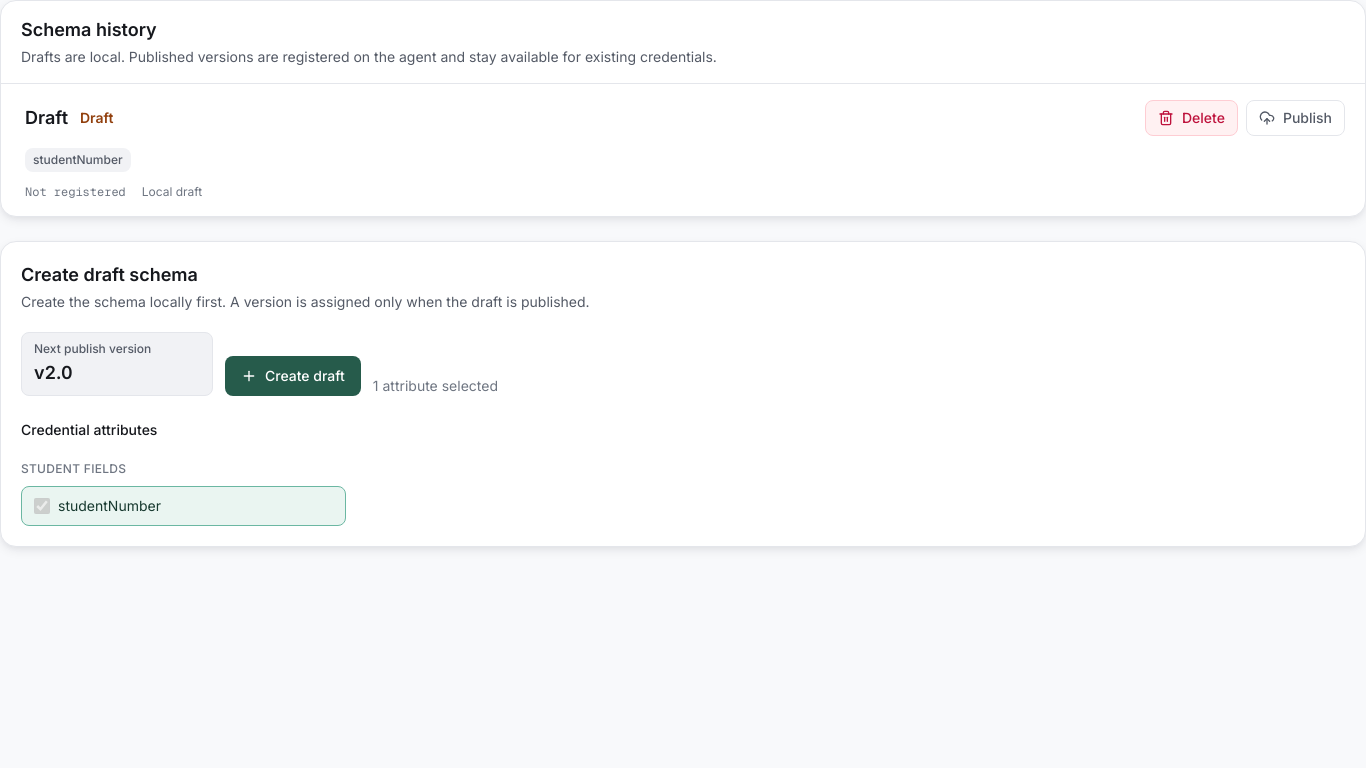
Test: SchemaVersionManager › shows publish timeout errors inside the confirmation dialog
Click the button "Publish" at (1295, 118), box [1246,100,1345,136]
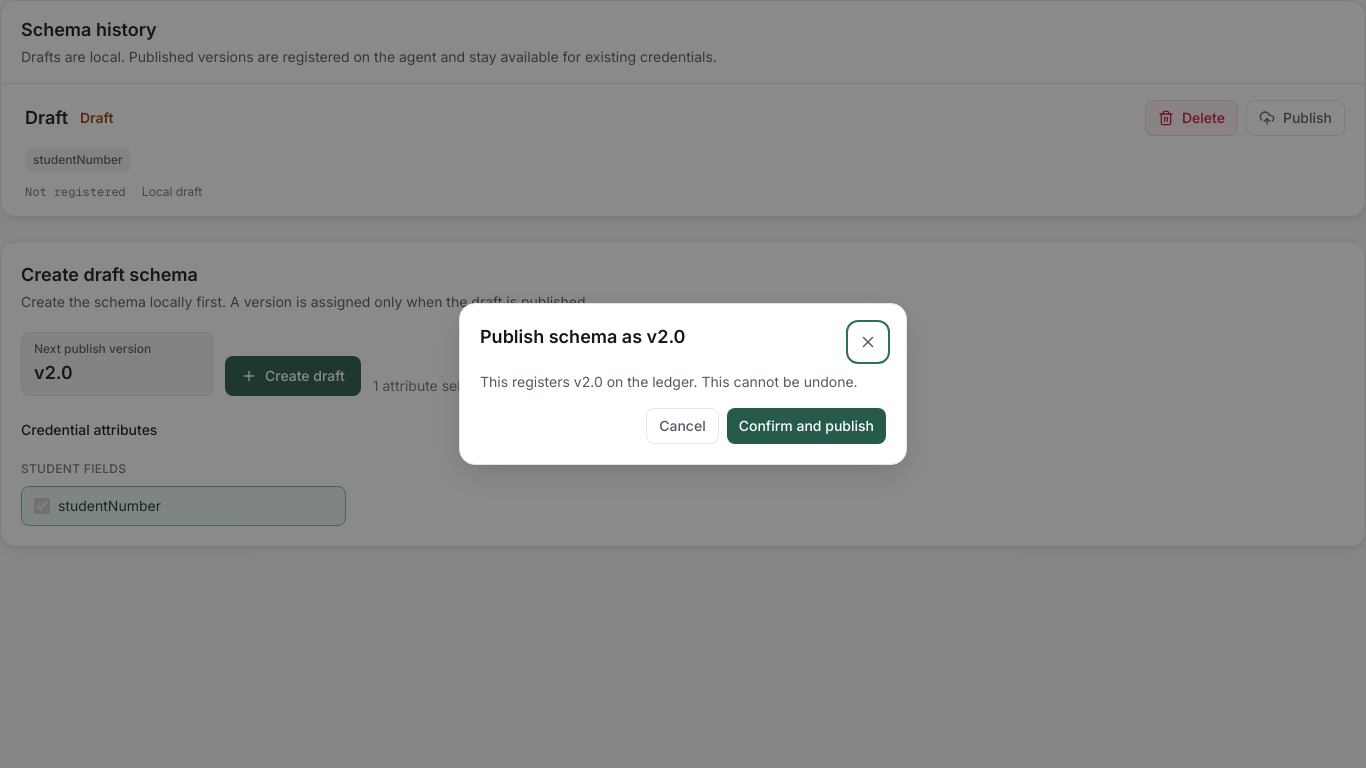
Click the button "Confirm and publish" at (806, 426), box [727,408,886,444]
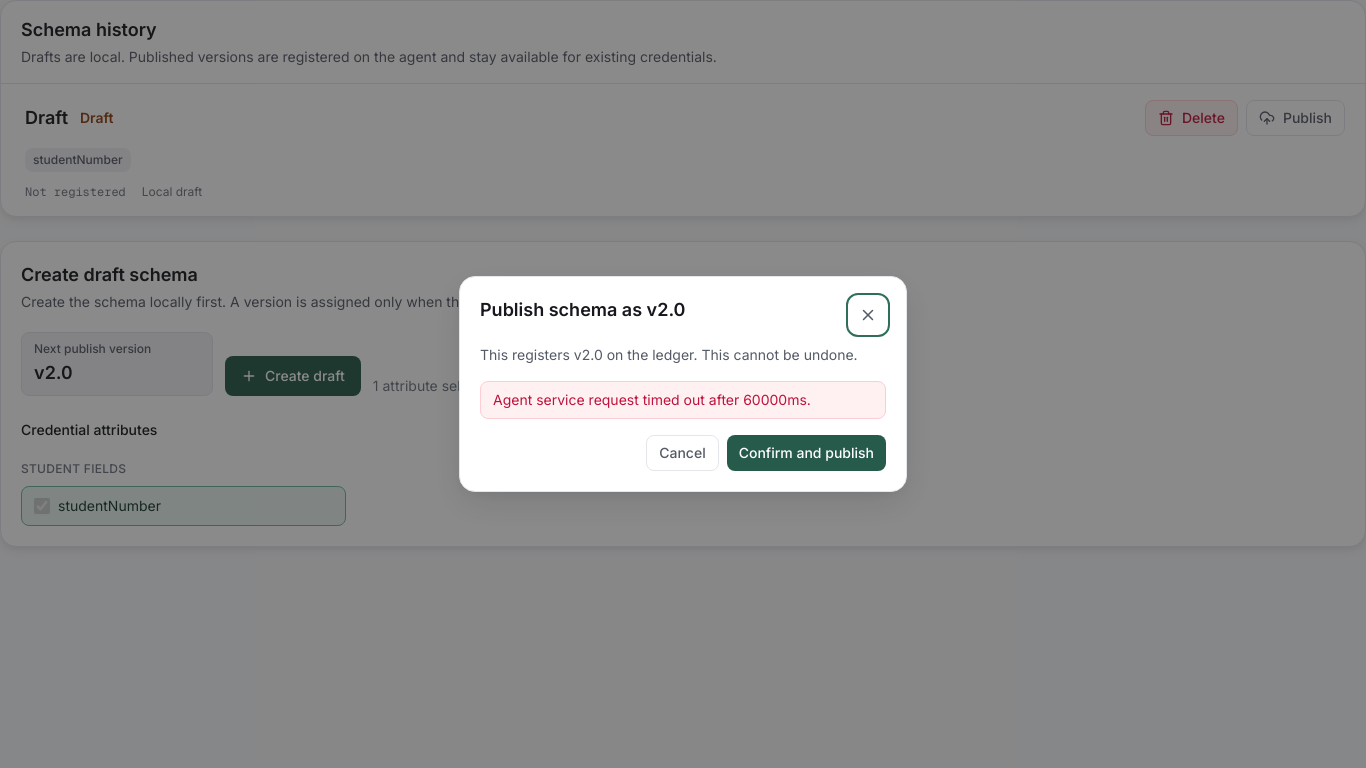
expect the button "Confirm and publish" is shown: met, box [727,435,886,471]
expect the text "Agent service request timed out after 60000ms." is shown: met, box [480,381,886,419]
